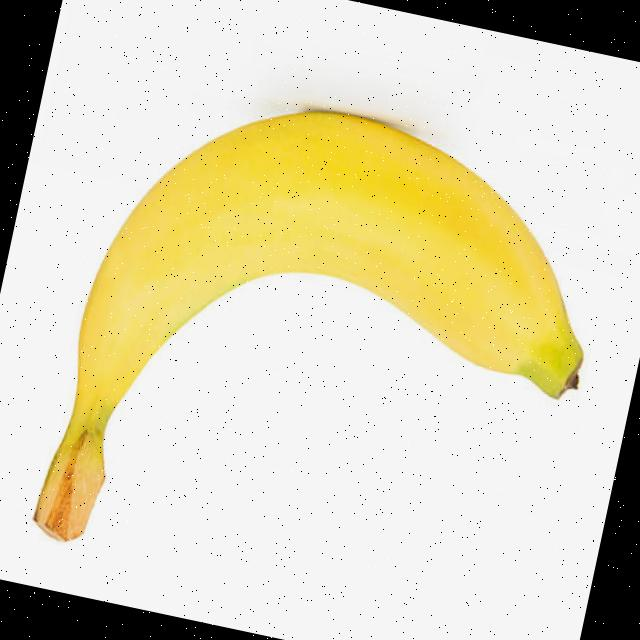Ripe: (30, 61, 628, 638)
